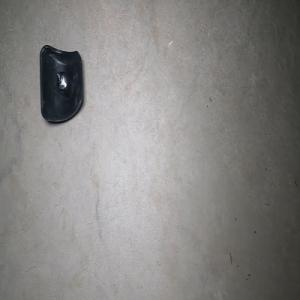LuggagePart: (38, 43, 83, 125)
